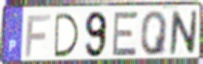9: (84, 10, 110, 59)
D: (54, 12, 81, 59)
E: (111, 10, 140, 58)
F: (24, 13, 52, 59)
N: (168, 9, 199, 56)
Q: (140, 10, 170, 58)
